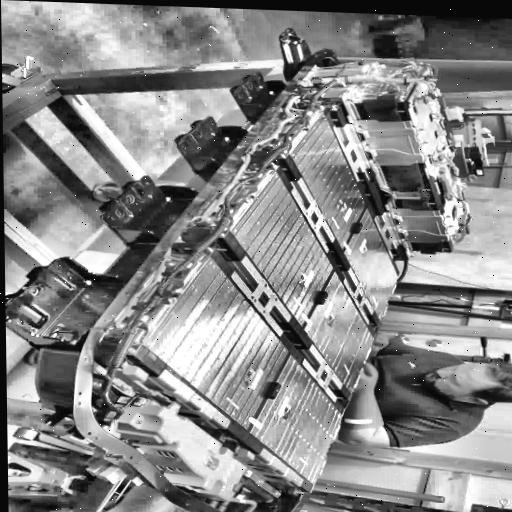battery_module: (141, 253, 290, 430), (230, 172, 332, 327), (249, 355, 343, 485), (287, 111, 365, 250), (303, 272, 375, 391), (344, 208, 397, 318)
high_volt_cable: (108, 73, 433, 330)
low_volt_cable: (99, 54, 444, 430)
